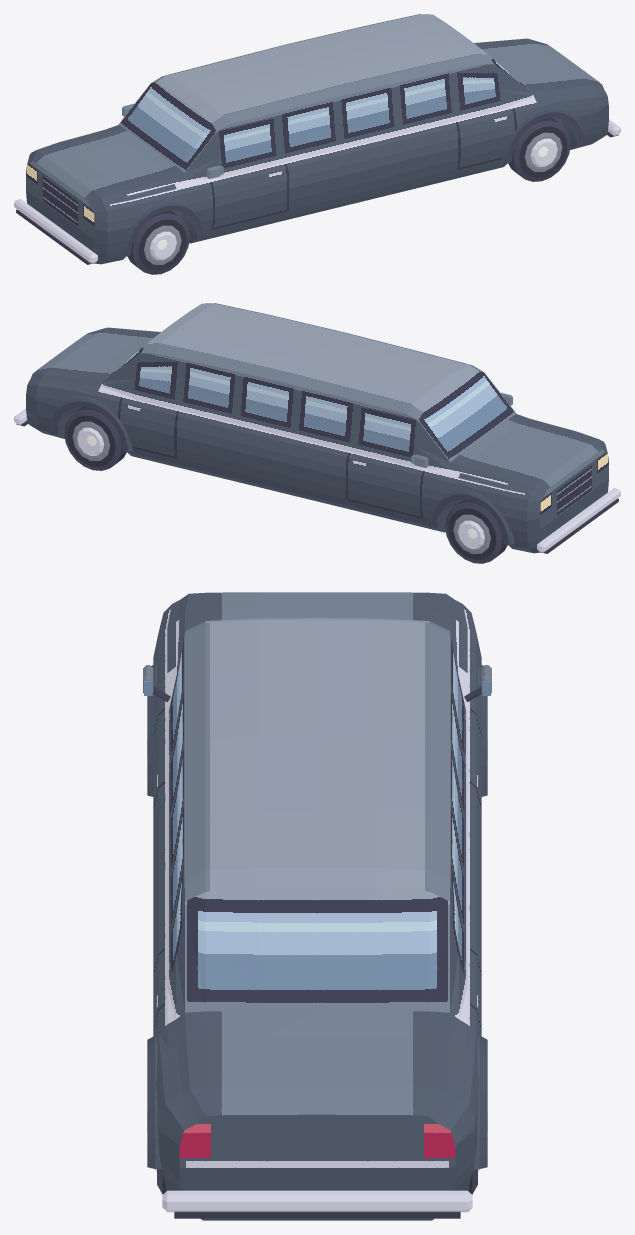
3 views of the same model, one above another, from view 1: azimuth 30°, elevation 25°; view 2: azimuth 150°, elevation 25°; view 3: azimuth 270°, elevation 25° (orthographic). The views are drawn at different scales.
Parts seen in each view (by area): view 1: Body_static, Wheel_RL_tire_hub, Wheel_FL_tire_hub; view 2: Body_static, Wheel_RR_tire_hub, Wheel_FR_tire_hub; view 3: Body_static.
Boxes of the visible parts, x1,y1,x2,y2 form: Body_static: [14, 14, 620, 264]; Wheel_RL_tire_hub: [508, 117, 570, 181]; Wheel_FL_tire_hub: [127, 210, 189, 274]; Body_static: [14, 303, 620, 553]; Wheel_RR_tire_hub: [64, 406, 126, 470]; Wheel_FR_tire_hub: [445, 499, 507, 563]; Body_static: [143, 592, 491, 1220].
Bounding box in the file's own units: 122 × 29.91 × 34.78.
1 material, 1 textured.
